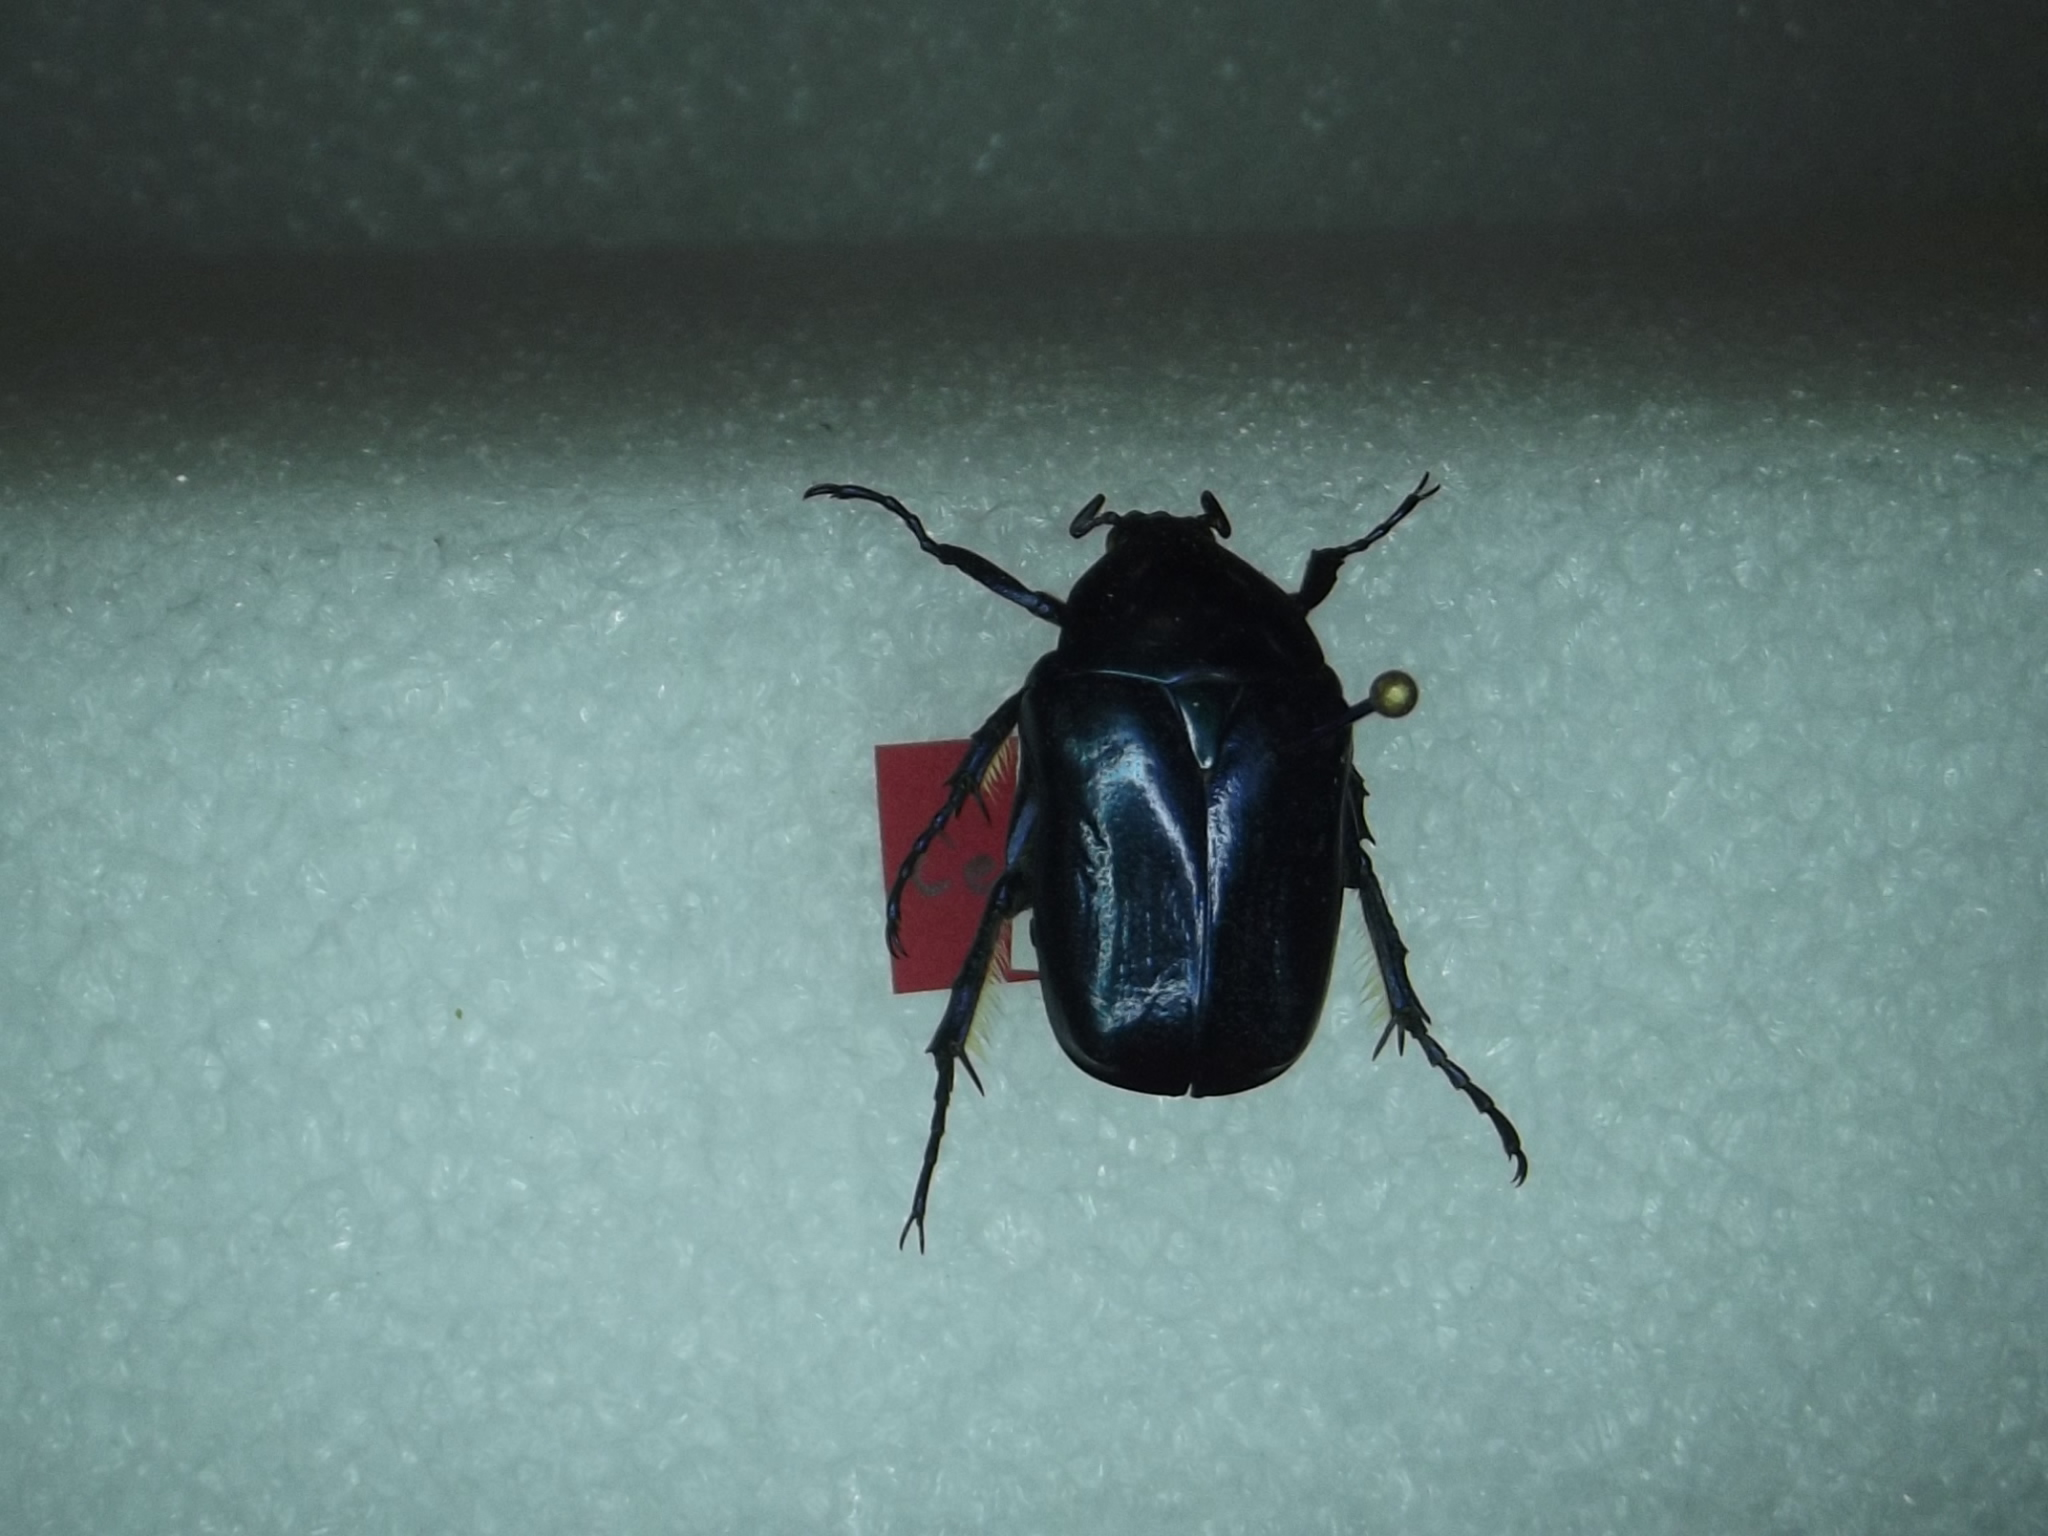Protaetia_besucheti: (780, 432, 1596, 1258)
